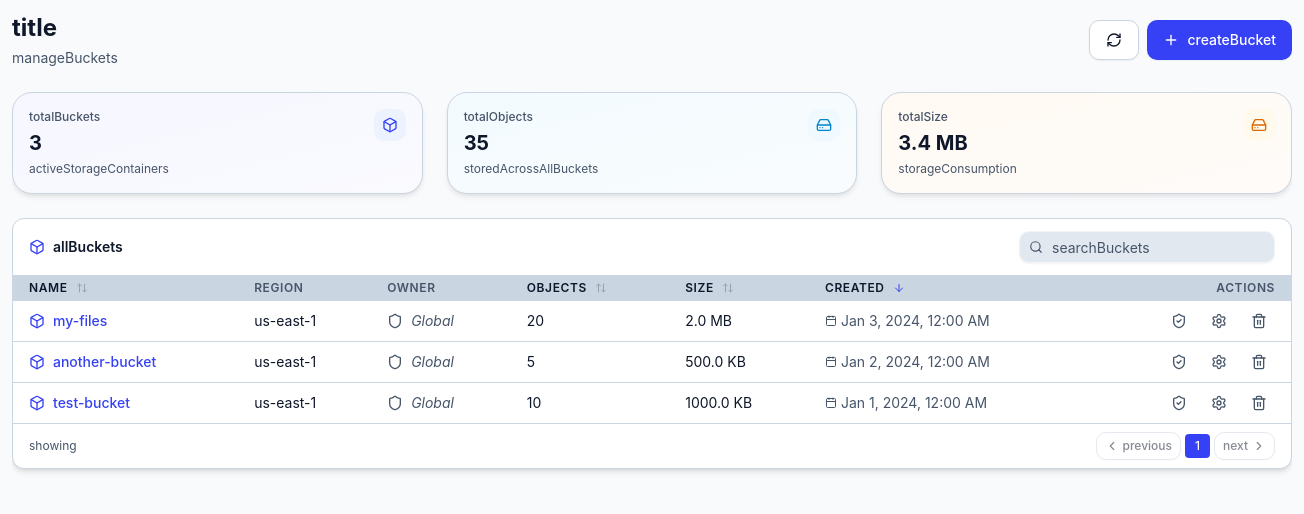
Test: Buckets Page › Search Functionality › should show "no results" when search has no matches
Expected: the link "test-bucket" is shown, [53,393,130,413]
In the field with placeholder "searchBuckets": (1147, 247) [1019,231,1275,263], type "nonexistent"
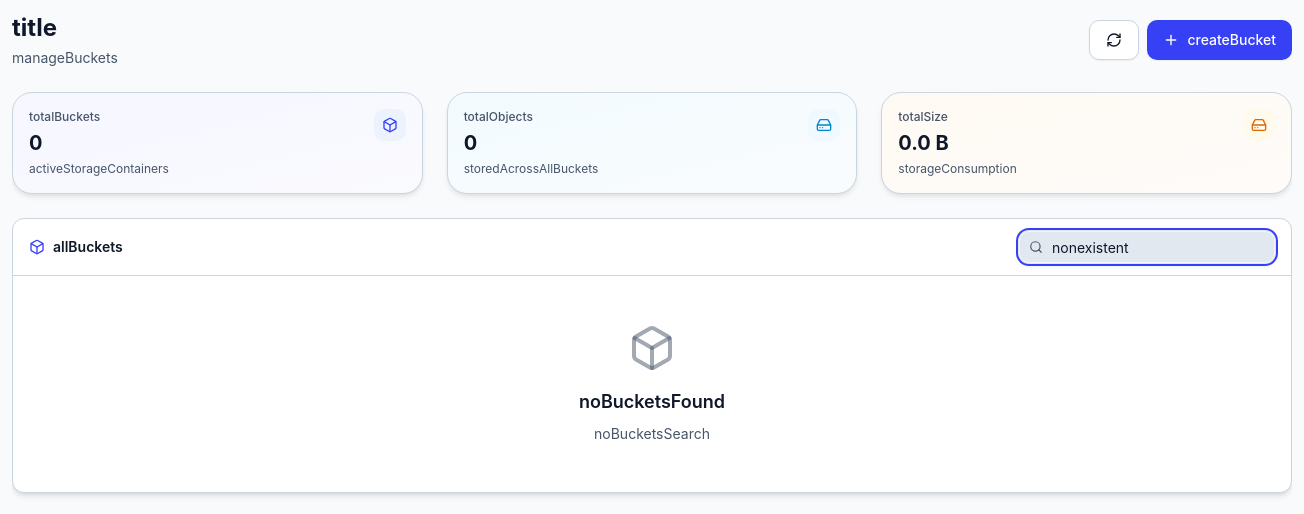
Result: the link "test-bucket" is gone
Result: the link "another-bucket" is gone
Result: the link "my-files" is gone
